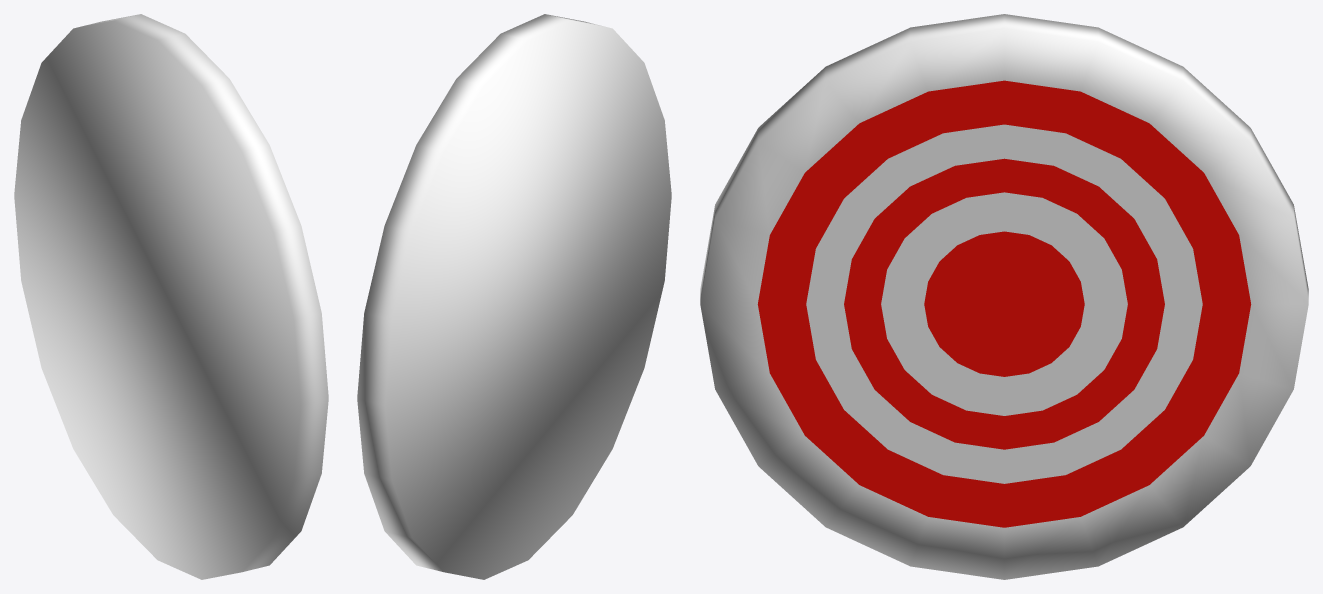
File: Target.glb
3 views of the same model, side by side, from view 1: azimuth 30°, elevation 25°; view 2: azimuth 150°, elevation 25°; view 3: azimuth 270°, elevation 25° (orthographic). The views are drawn at different scales.
Visible parts, largest first — view 1: Cylinder; view 2: Cylinder; view 3: Cylinder.
Boxes of the visible parts, left/top/right/bottom form: Cylinder: left=14, top=14, right=328, bottom=579; Cylinder: left=357, top=14, right=671, bottom=579; Cylinder: left=700, top=14, right=1308, bottom=579.
Size of the model in its own units: 0.1124 by 2 by 2.
2 materials, 2 textured.
